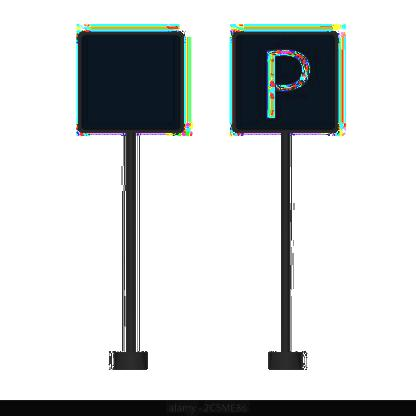Parking: (237, 33, 337, 132)
